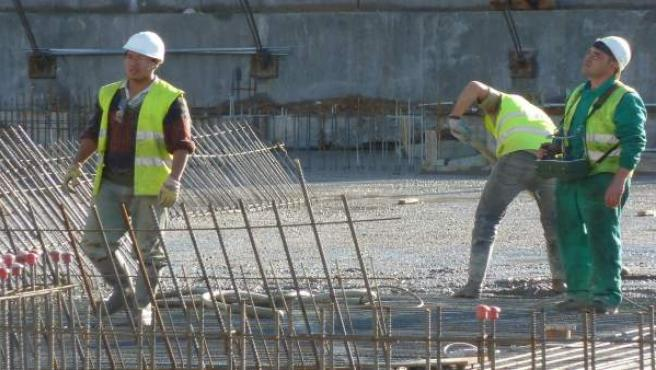casco: (593, 34, 632, 79), (120, 30, 167, 63)
